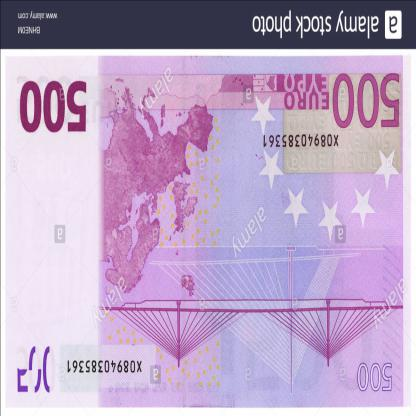euro_banknote: (2, 51, 416, 416)
